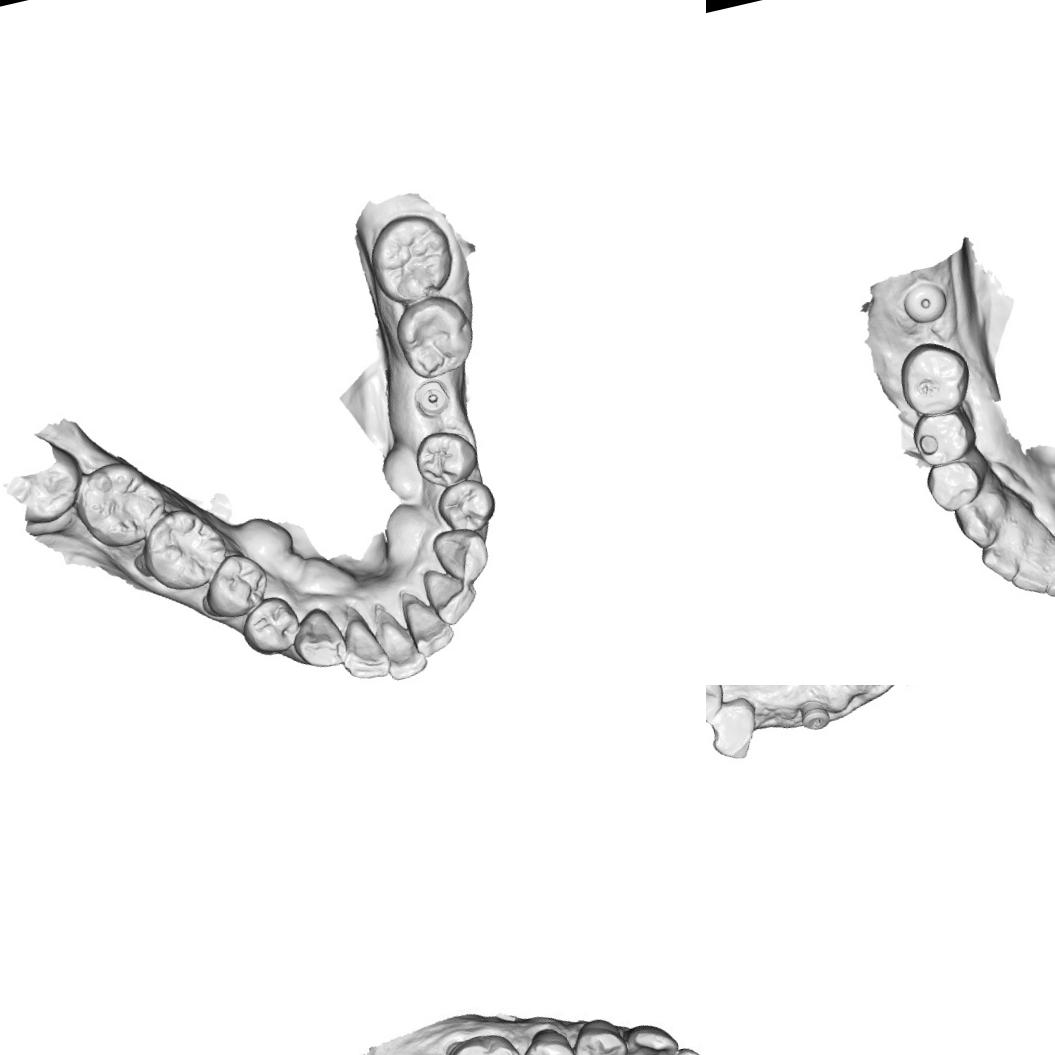canine: (706, 693, 768, 766), (288, 604, 350, 674), (950, 486, 1012, 552), (432, 523, 494, 588), (613, 1015, 683, 1055)
implant: (902, 278, 951, 324), (796, 696, 836, 736)
implant_minus: (410, 376, 454, 422)
incisor: (331, 610, 392, 685), (422, 563, 482, 632), (375, 612, 431, 684), (402, 592, 457, 660), (1005, 540, 1055, 603), (976, 531, 1026, 588), (1037, 534, 1055, 606)
molar: (68, 452, 174, 558), (363, 206, 461, 310), (136, 502, 228, 598), (390, 292, 478, 384), (896, 339, 976, 415), (438, 1032, 532, 1055)
premolar: (202, 552, 272, 622), (410, 424, 481, 492), (238, 592, 306, 659), (907, 405, 978, 468), (433, 475, 500, 538), (923, 457, 988, 513), (567, 1010, 633, 1055), (513, 1028, 581, 1055), (706, 685, 734, 730)
